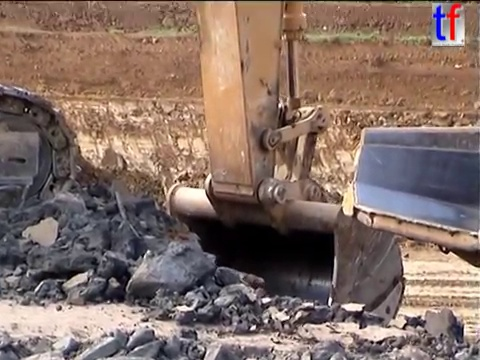excavator: (1, 1, 409, 360)
truck: (338, 122, 480, 272)
